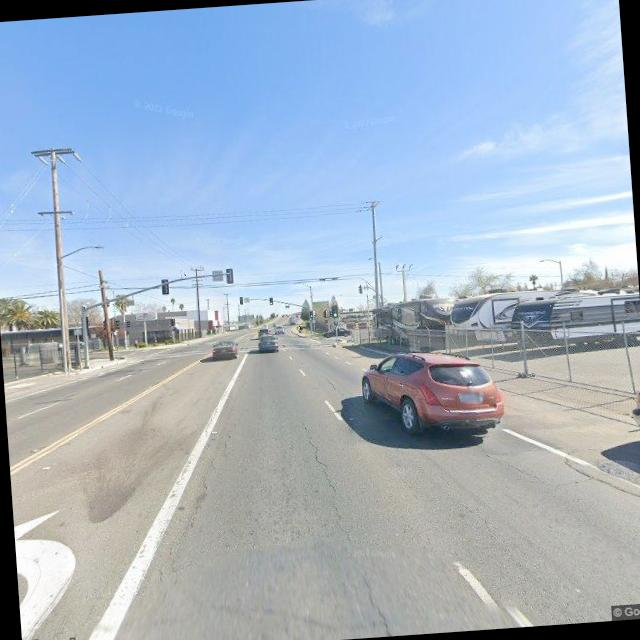pothole: (152, 418, 249, 570), (296, 414, 346, 541), (456, 497, 498, 547)
